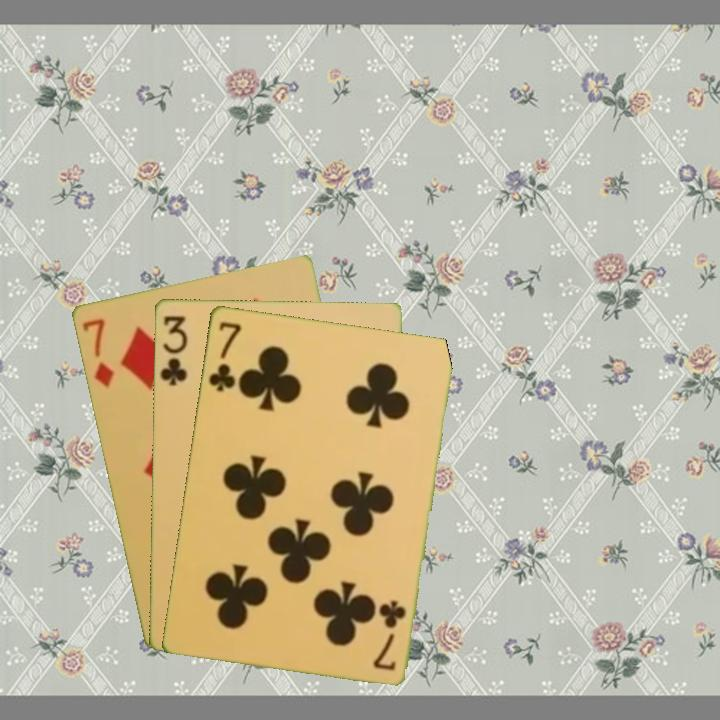3c: (156, 311, 190, 389)
7c: (204, 317, 244, 394), (369, 596, 409, 673)
7d: (78, 315, 116, 391)
